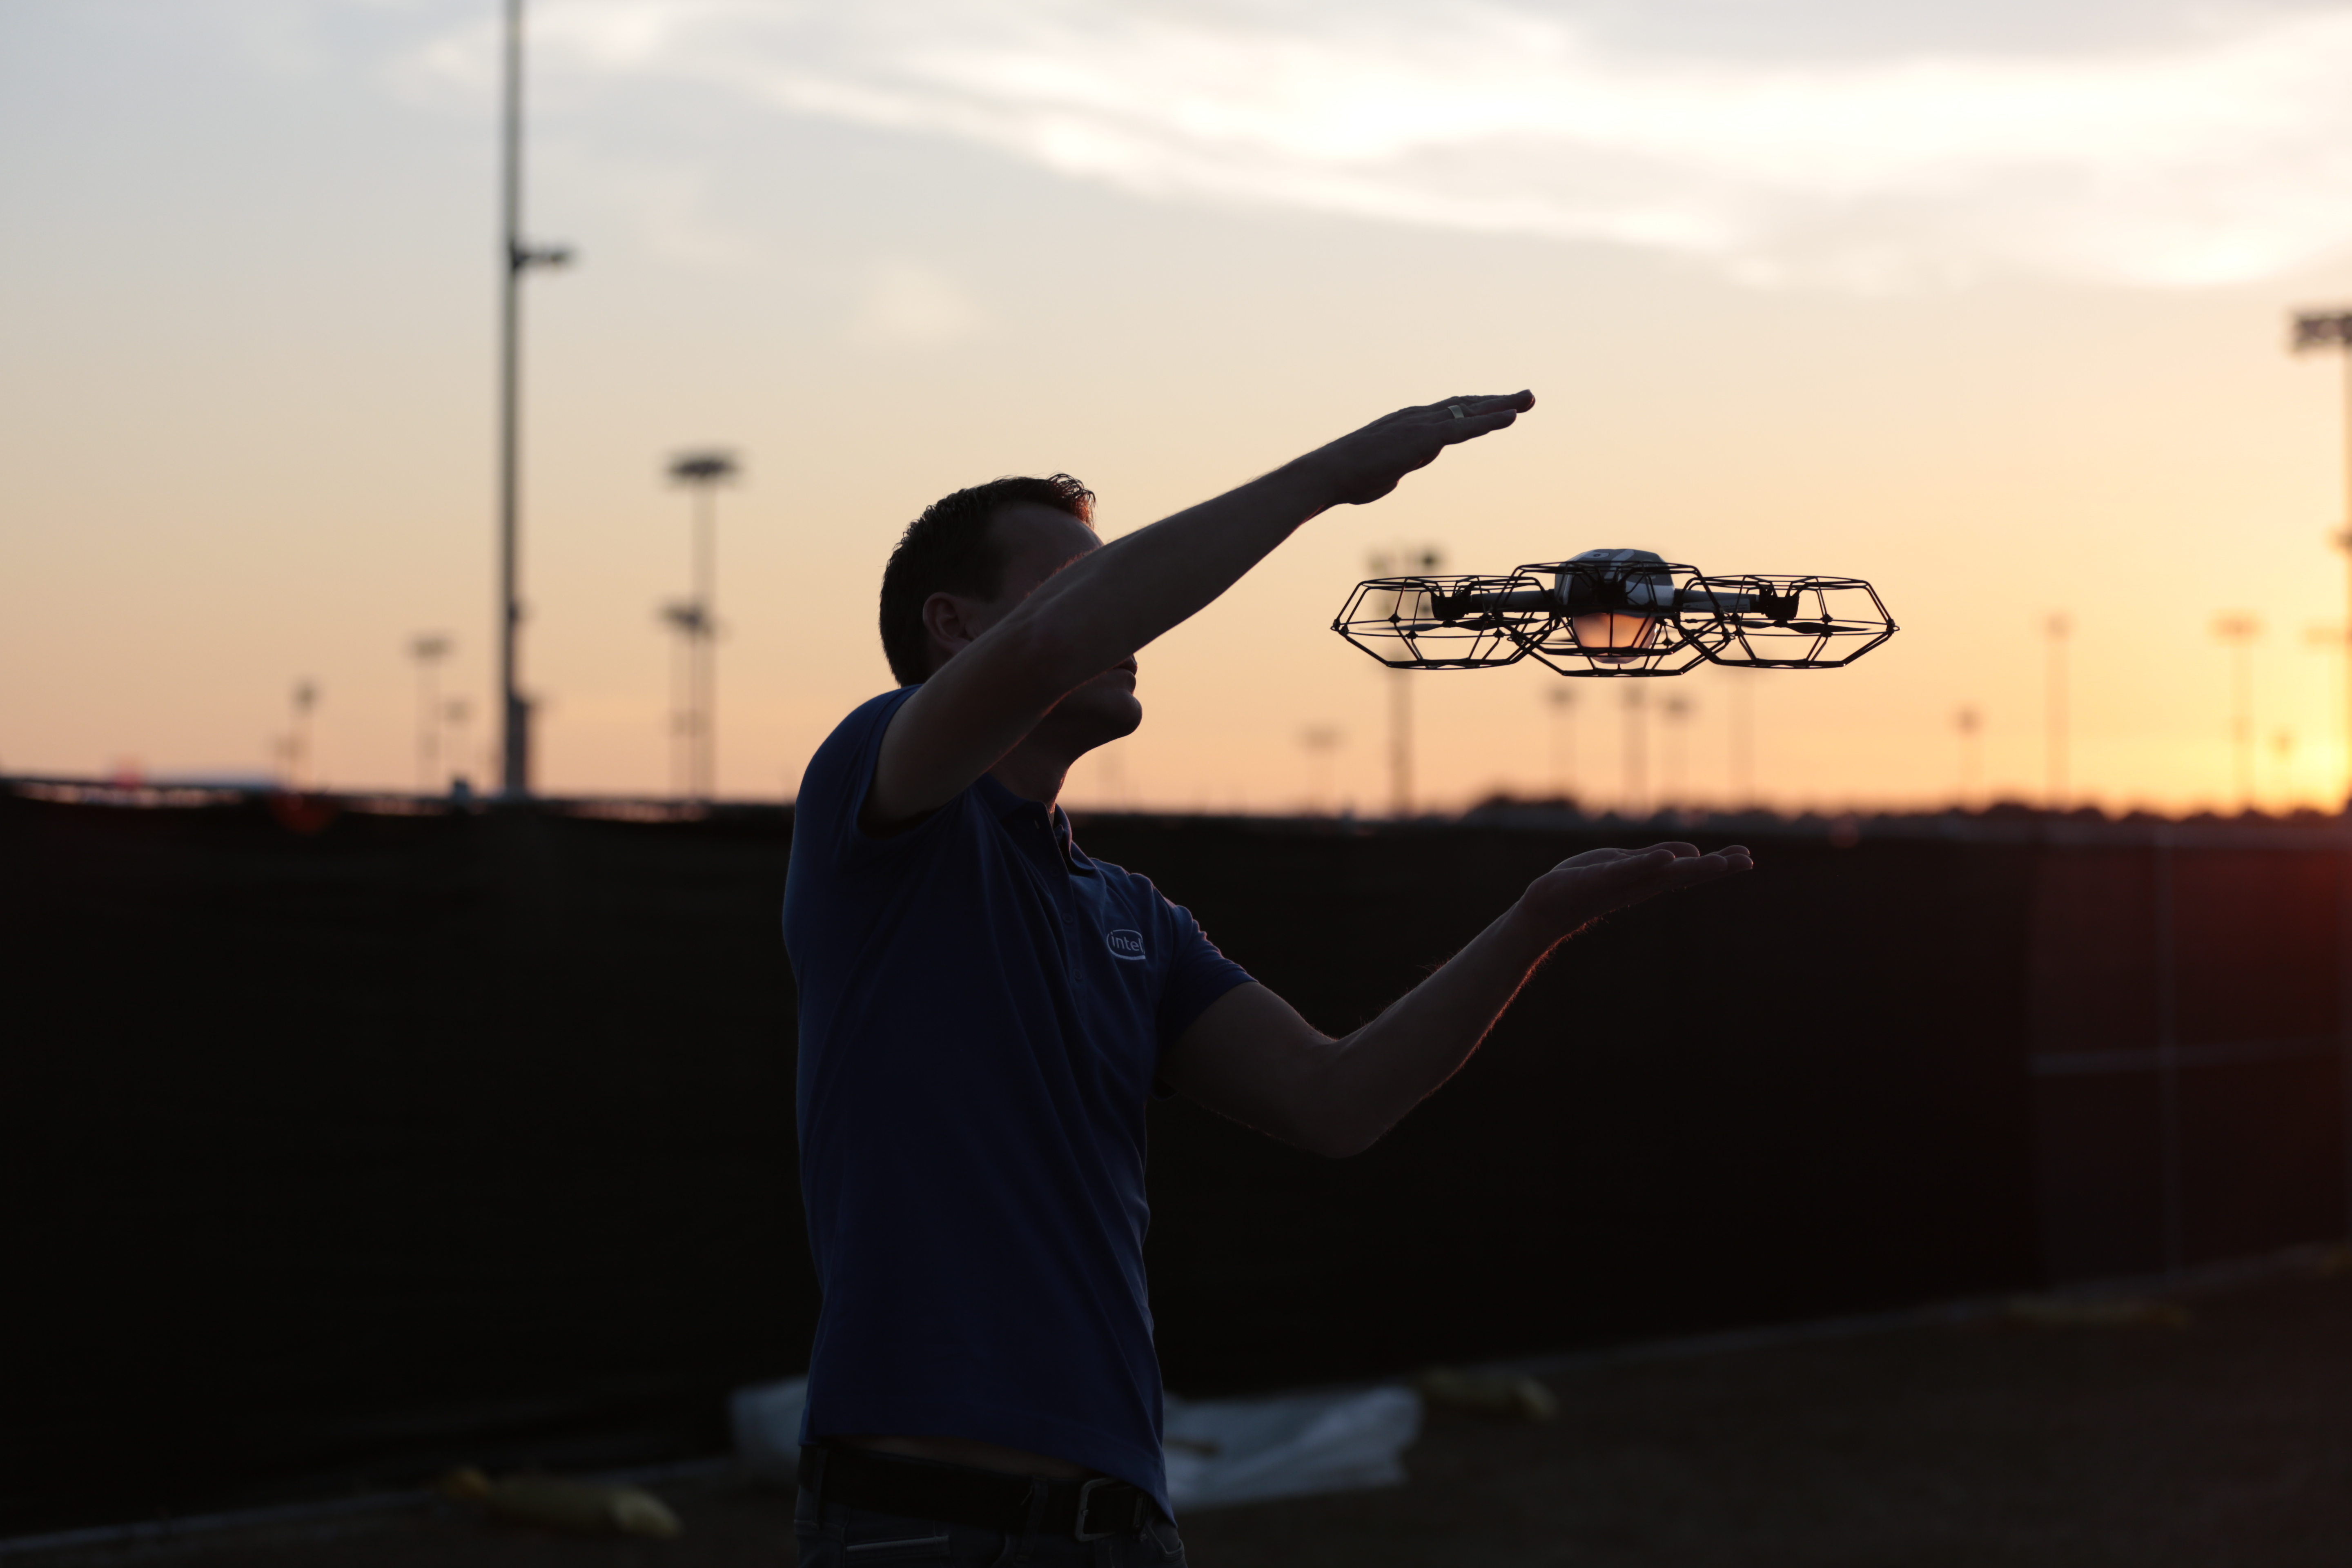drone: (1332, 540, 1904, 688)
person: (765, 381, 1749, 1568)
